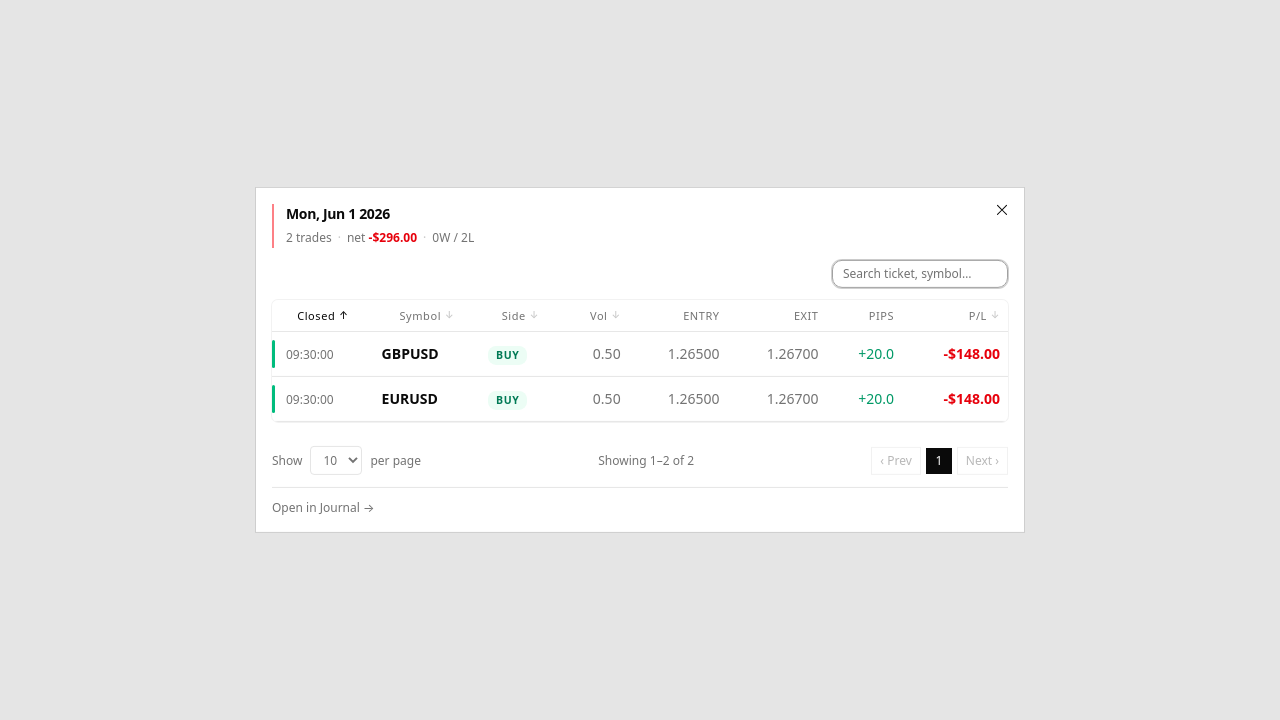
DayTradesModal › search filters rows by symbol
Type "EUR" into the search field with placeholder "Search ticket, symbol…" at (920, 273), box [832,259,1008,287]
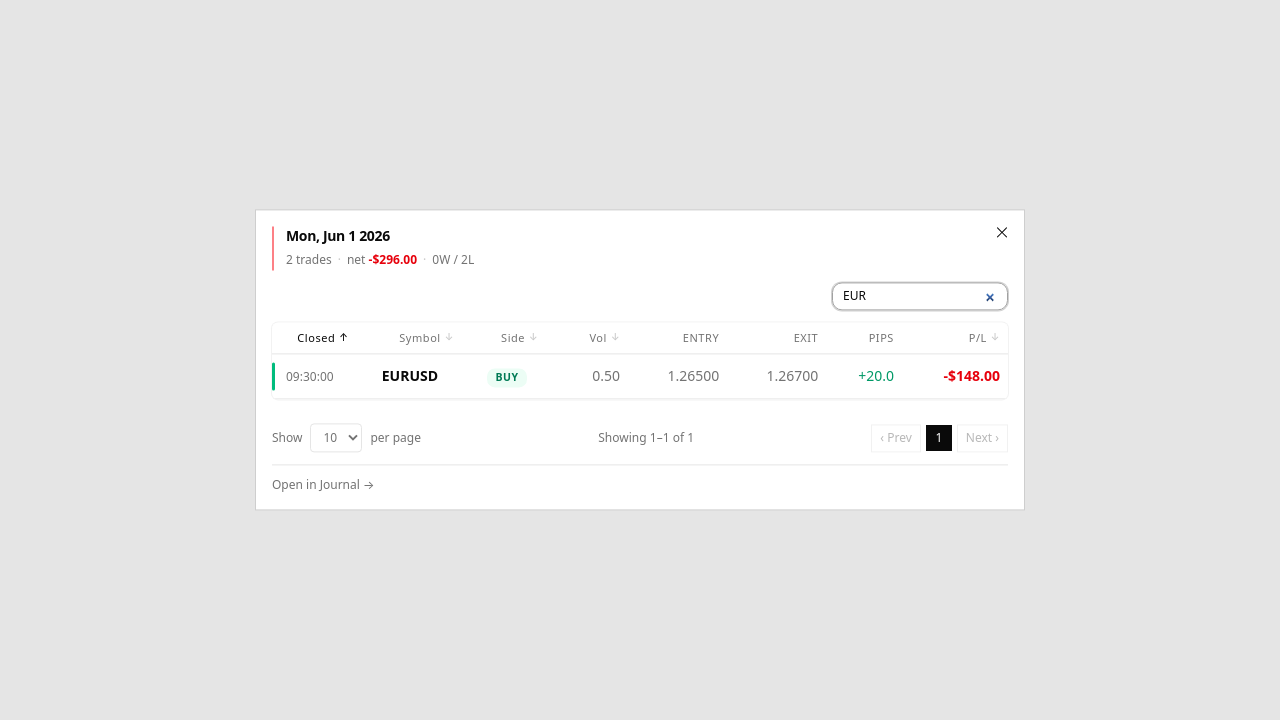
Expected: the text "EURUSD" is shown, [374,354,479,399]
Now the text "GBPUSD" is gone
